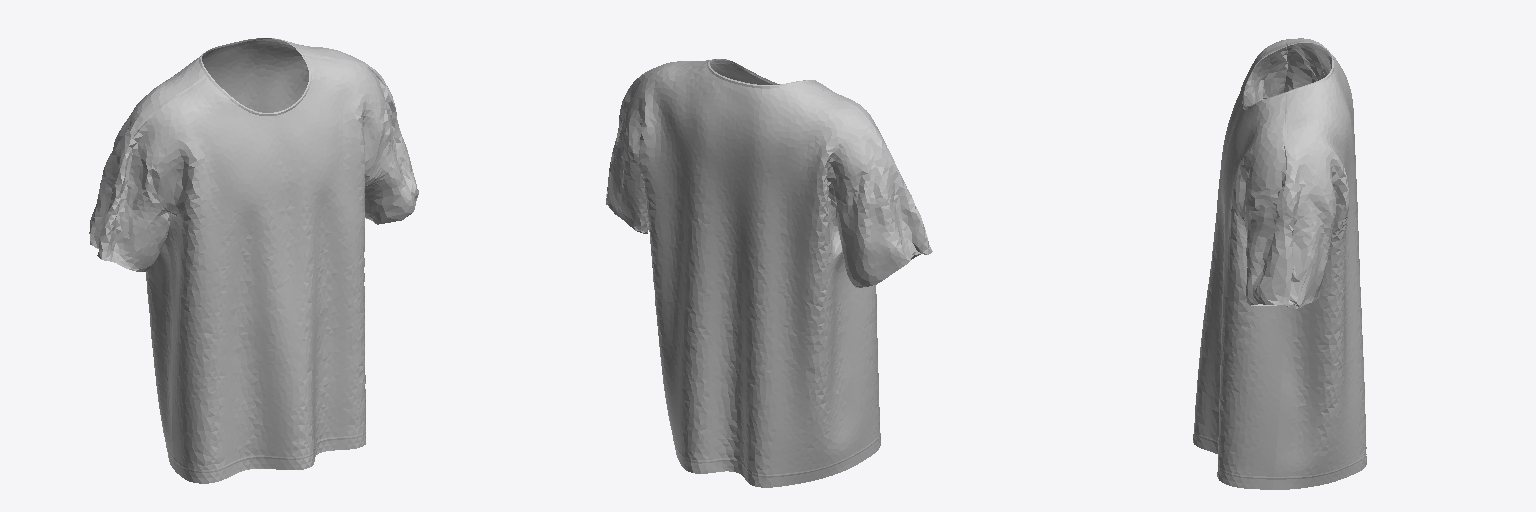
The model's file is small_average.obj.
3 renders of one model, left to right at view 1: azimuth 30°, elevation 25°; view 2: azimuth 150°, elevation 25°; view 3: azimuth 270°, elevation 25°, orthographic.
Visible parts, largest first — view 1: 短袖.004; view 2: 短袖.004; view 3: 短袖.004.
Part boxes in pixels (bbox=[...]): 短袖.004: bbox=[89, 38, 418, 483]; 短袖.004: bbox=[606, 59, 932, 487]; 短袖.004: bbox=[1193, 38, 1366, 489].
Bounding box in the file's own units: 0.5718 × 0.6646 × 0.2694.